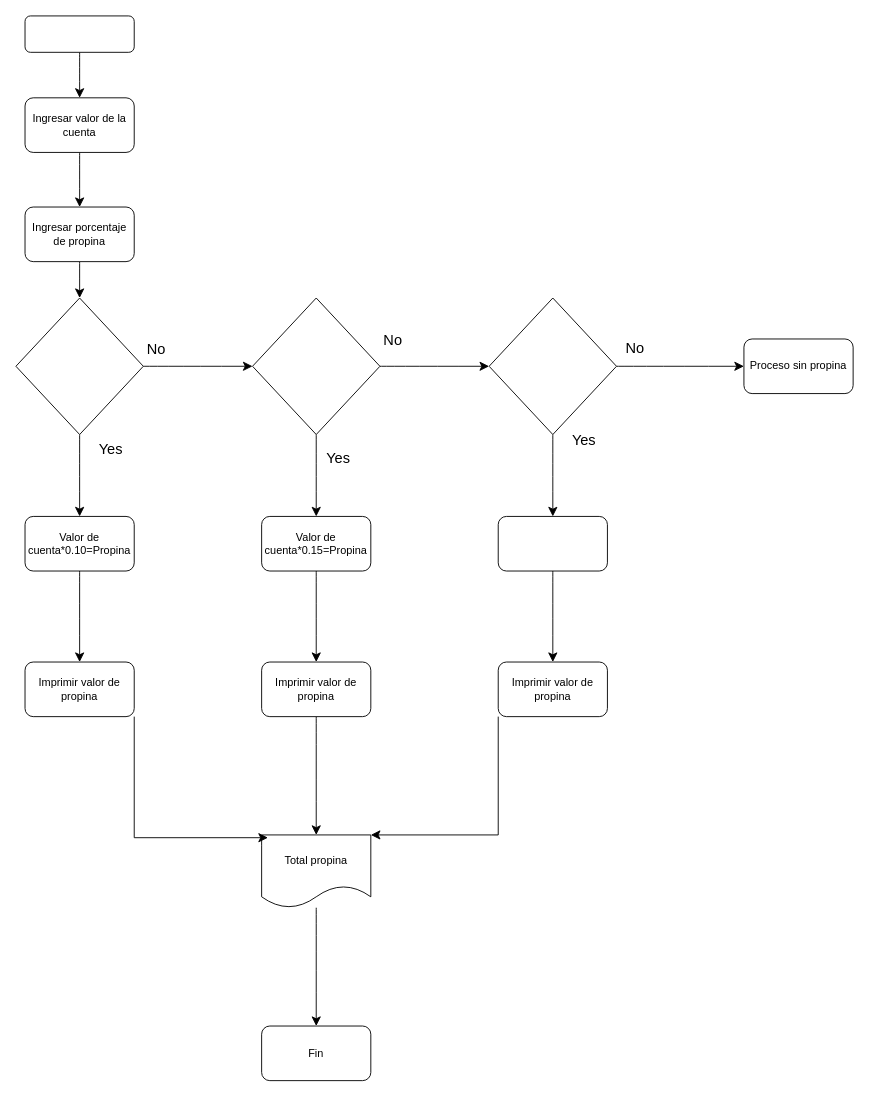
The diagram is 869 pixels wide and 1097 high, and some of its shapes have lost their labels. Here are the shapes that lost their labels. From the top down, the centre of each, then its label:
At point (79, 33): "Inicio".
At point (79, 366): "Propina es del 10%".
At point (316, 366): "Propina es del 15%".
At point (552, 366): "Propina es del 20%".
At point (552, 543): "Valor de cuenta*0.20=Propina".
